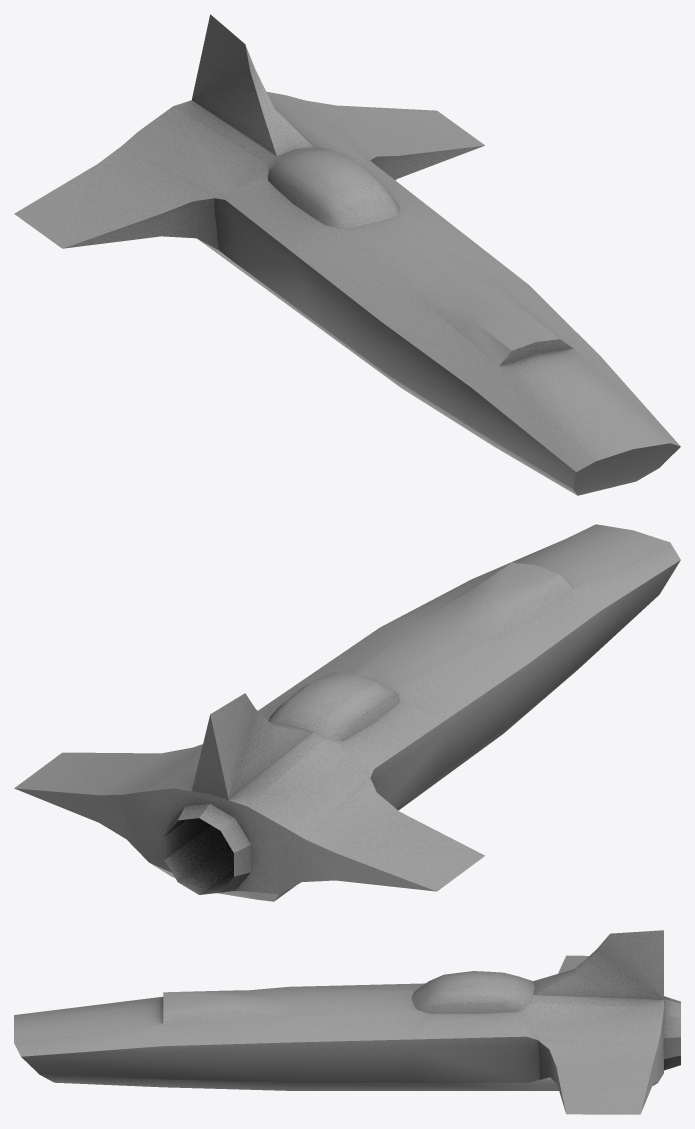
File: Ship2.fbx
The picture shows the model from 3 angles, top to bottom: view 1: azimuth 30°, elevation 25°; view 2: azimuth 150°, elevation 25°; view 3: azimuth 270°, elevation 25°; orthographic projection. The views are drawn at different scales.
Visible parts, largest first — view 1: Plane; view 2: Plane; view 3: Plane.
Boxes of the visible parts, box(x1,y1,x2,y2) form: Plane: box(14, 14, 680, 495); Plane: box(14, 524, 680, 901); Plane: box(14, 930, 680, 1114).
Bounding box in the file's own units: 1.68 × 0.7007 × 2.99.
3 materials, 3 textured.
